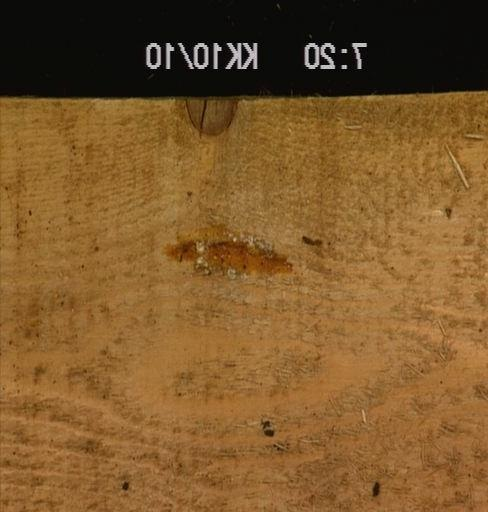edge_knot: (182, 96, 242, 135)
